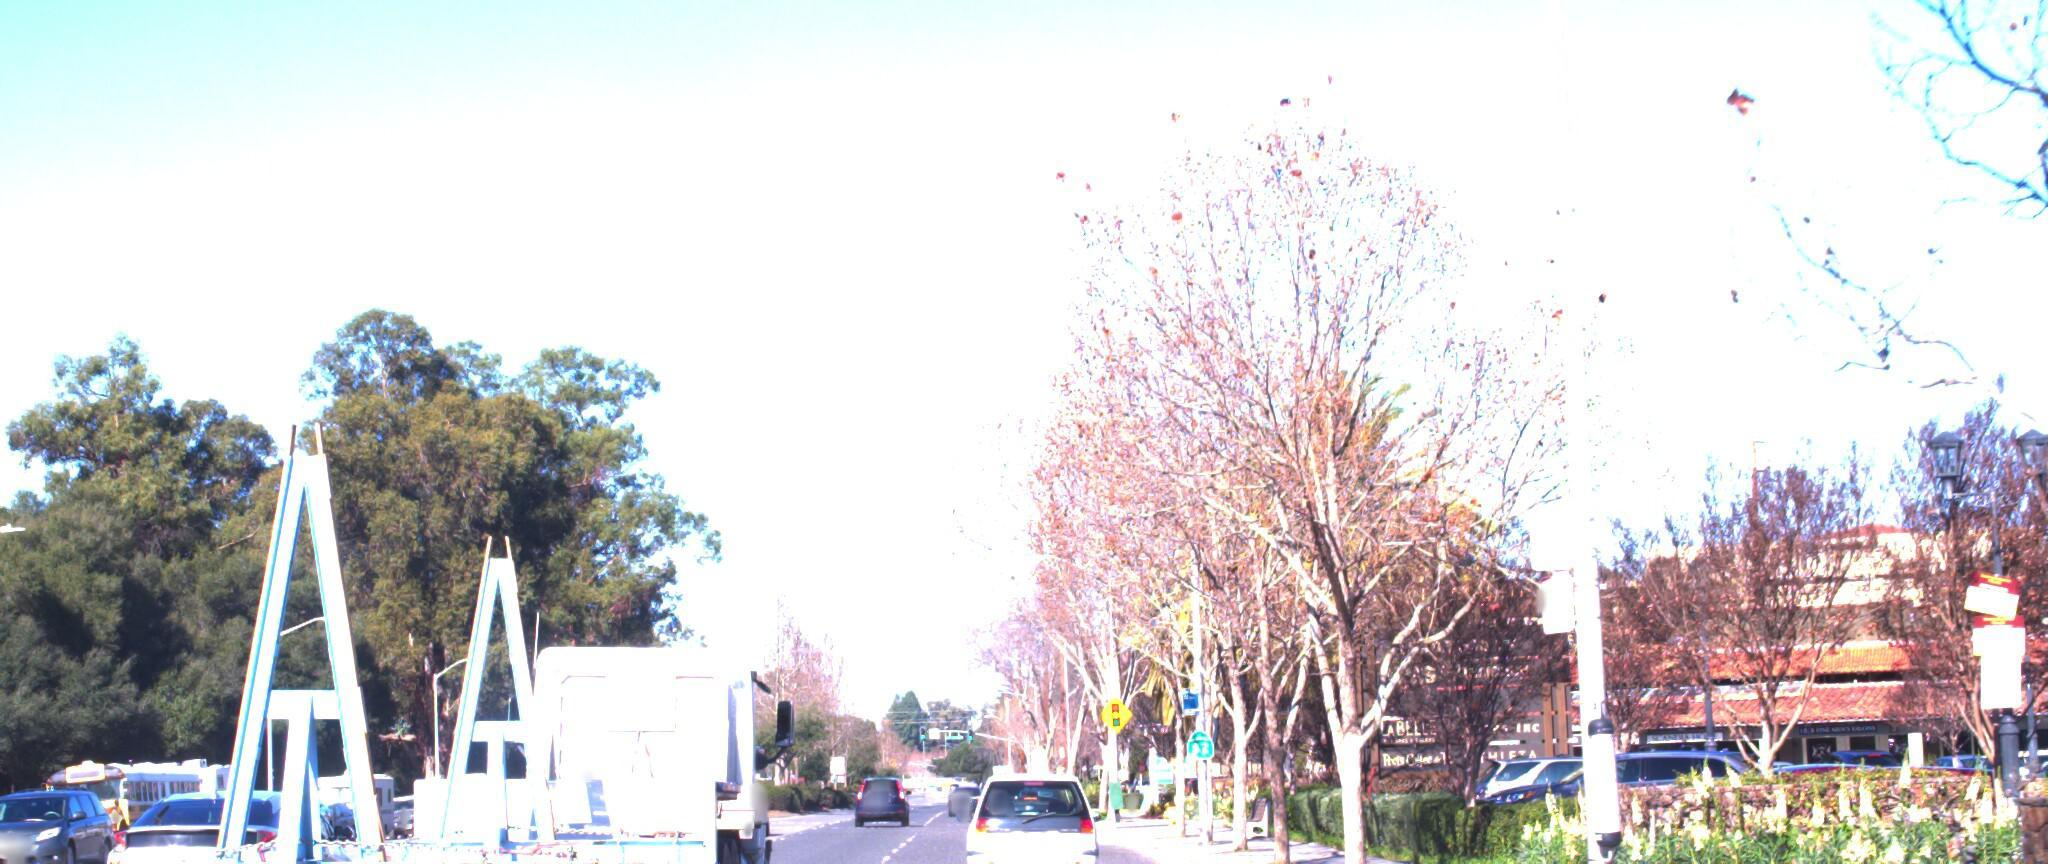car: (78, 766, 380, 864), (1462, 728, 1710, 824), (959, 752, 1105, 864)
